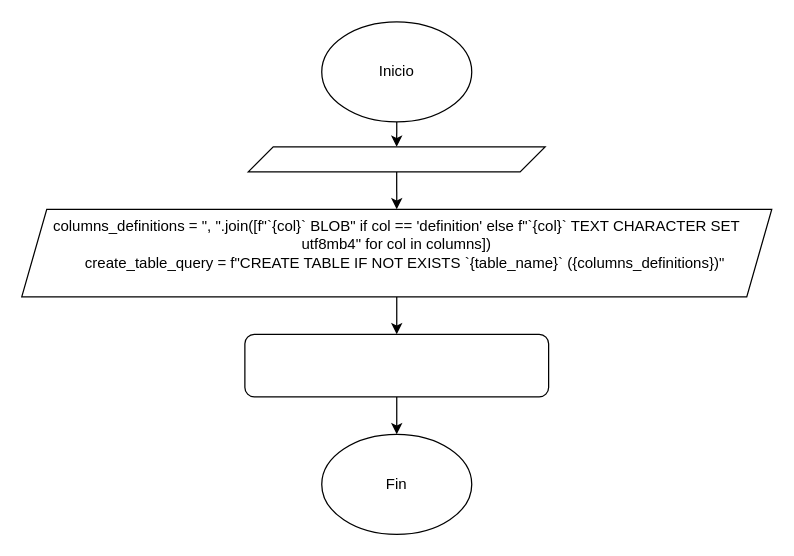
The diagram is 794 pixels wide and 556 high, and some of its shapes have lost their labels. Here are the shapes that lost their labels. From the top down, the centre of each, then its label:
At (396,159): "mysql_cursor, table_name, columns)".
At (396,365): "mysql_cursor.execute(create_table_query)".
